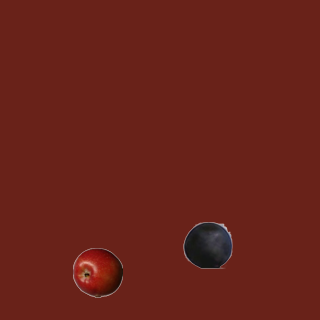Apple Braeburn: (72, 247, 122, 297)
Grape Blue: (182, 219, 232, 269)
